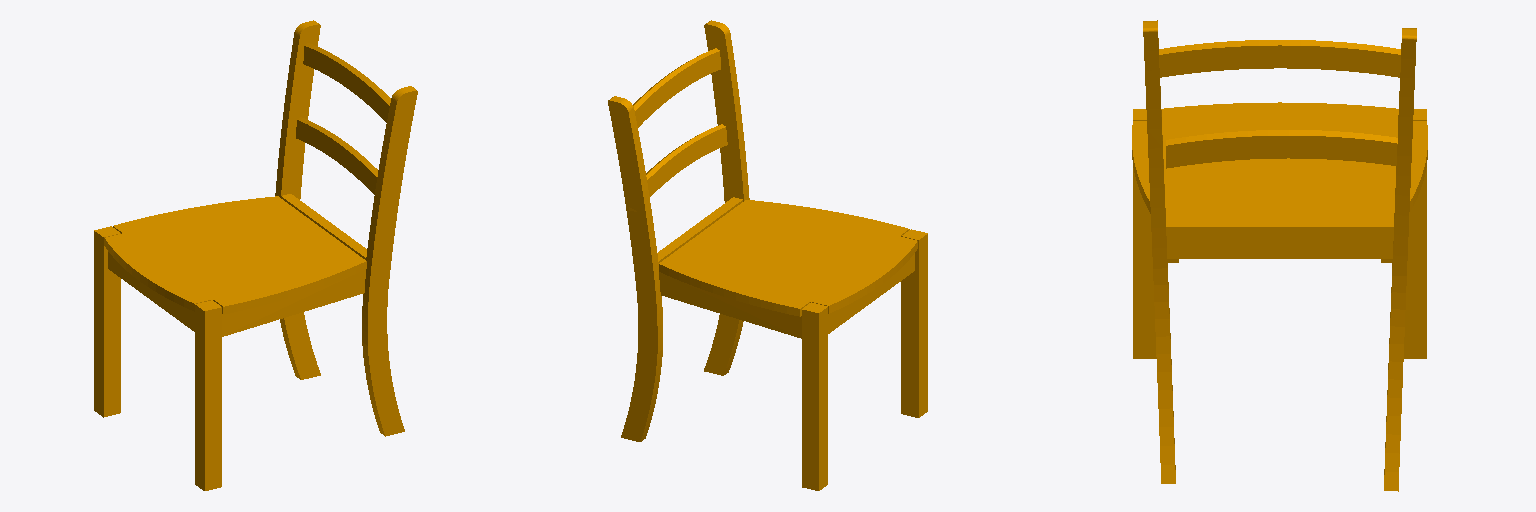
The robot description file, URDF, robot "Kitchen_table":
<?xml version="1.0" ?>
<robot name="Kitchen_table">
    <link name="link">
    <contact>
      <lateral_friction value="1.0"/>
      <rolling_friction value="1"/>
      <inertia_scaling value="3.0"/>
    </contact>
    <inertial>
      <origin xyz="0. 0. 0." />
      <mass value="100000000" />
      <inertia ixx="0.001" ixy="0.0" ixz="0.0" iyy="0.001" iyz="0.0" izz="0.001" />
    </inertial>
      <pose>0 0 0 0 0 1.57079632679</pose>

        <visual name="visual">
        <origin rpy="0.0 0.0 0.0" xyz="0.0 0.0 0.0" />
          <geometry>
            <mesh filename="meshes/model.obj" />
          </geometry>
        </visual>

        <collision name="collision">
        <origin rpy="0.0 0.0 0.0" xyz="0.0 0.0 0.0" />
          <geometry>
            <mesh filename="meshes/model.obj" />
          </geometry>
        </collision>

    </link>
  </robot>

--- What the picture shows (computed from the rendered views, not written in the file) ---
The picture shows the robot from 3 angles, left to right: view 1: azimuth 30°, elevation 25°; view 2: azimuth 150°, elevation 25°; view 3: azimuth 270°, elevation 25°; orthographic projection.
Robot: Kitchen_table — 1 links, 0 joints (none); root link link; default pose: every joint at zero.
Links seen in each view (by area): view 1: link; view 2: link; view 3: link.
Link boxes in pixels (x1,y1,x2,y2): link: [94, 20, 417, 490]; link: [608, 20, 927, 490]; link: [1132, 20, 1427, 491].
Size in the robot's own frame: 0.3274 by 0.2785 by 0.4835 metres.
Meshes: 1 distinct files referenced, 1 mesh visuals loaded (1 OBJ).